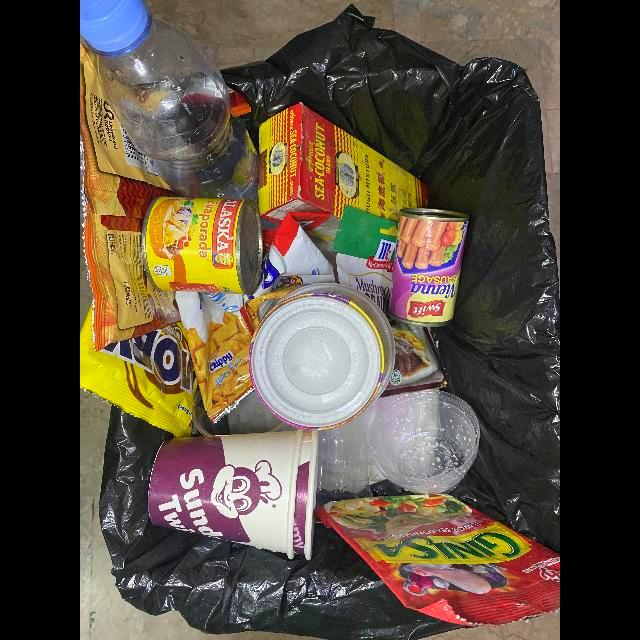aluminum: (143, 194, 263, 295), (389, 209, 470, 325)
cardboard: (259, 101, 427, 254), (148, 431, 319, 563)
food_wrapper: (174, 212, 334, 425), (313, 494, 559, 632), (80, 43, 180, 352), (335, 205, 449, 397), (80, 301, 197, 438)
plastic_bottle: (80, 0, 259, 200), (248, 284, 395, 432), (367, 391, 482, 491)
